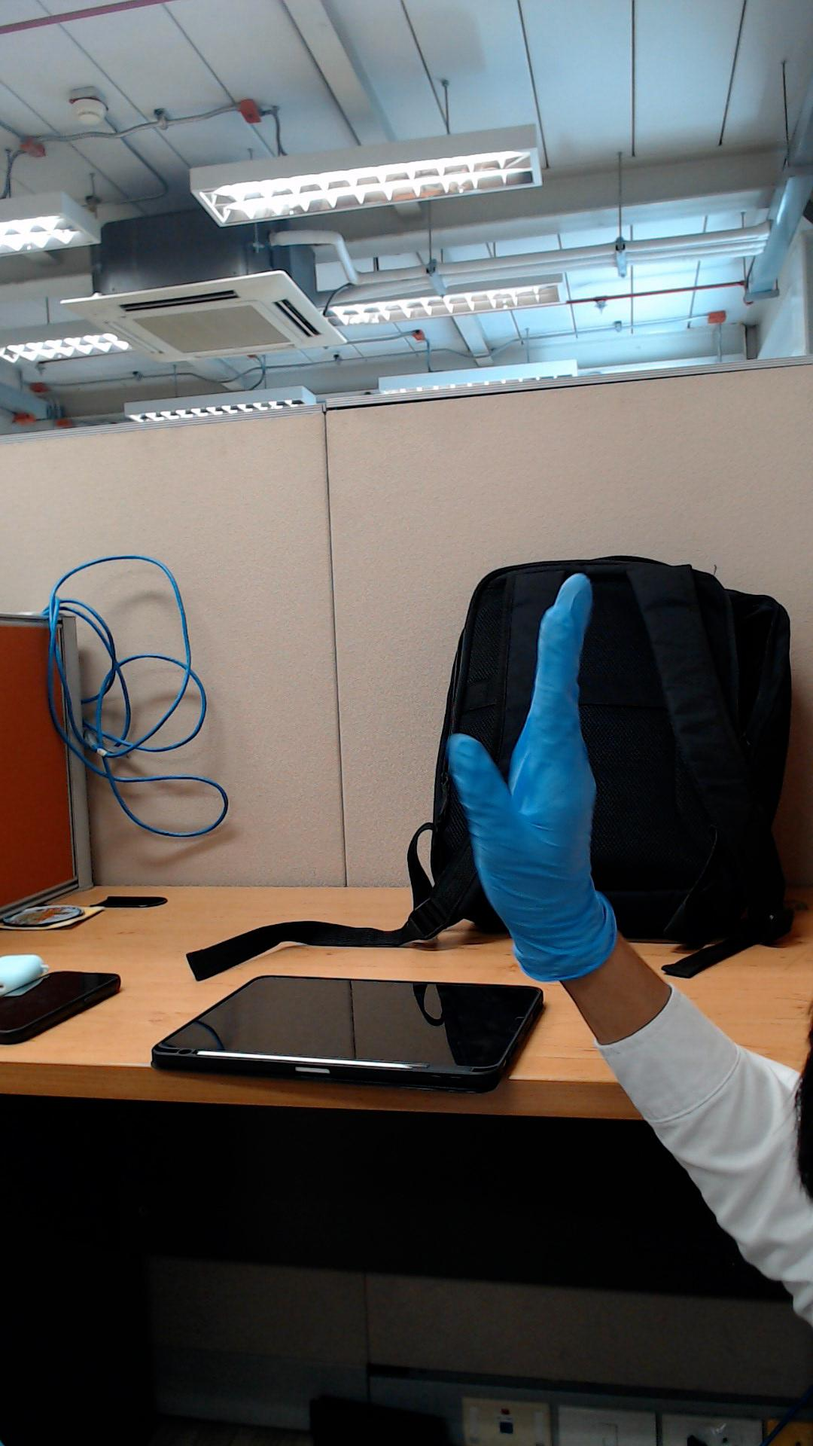gloves: (420, 530, 635, 888)
